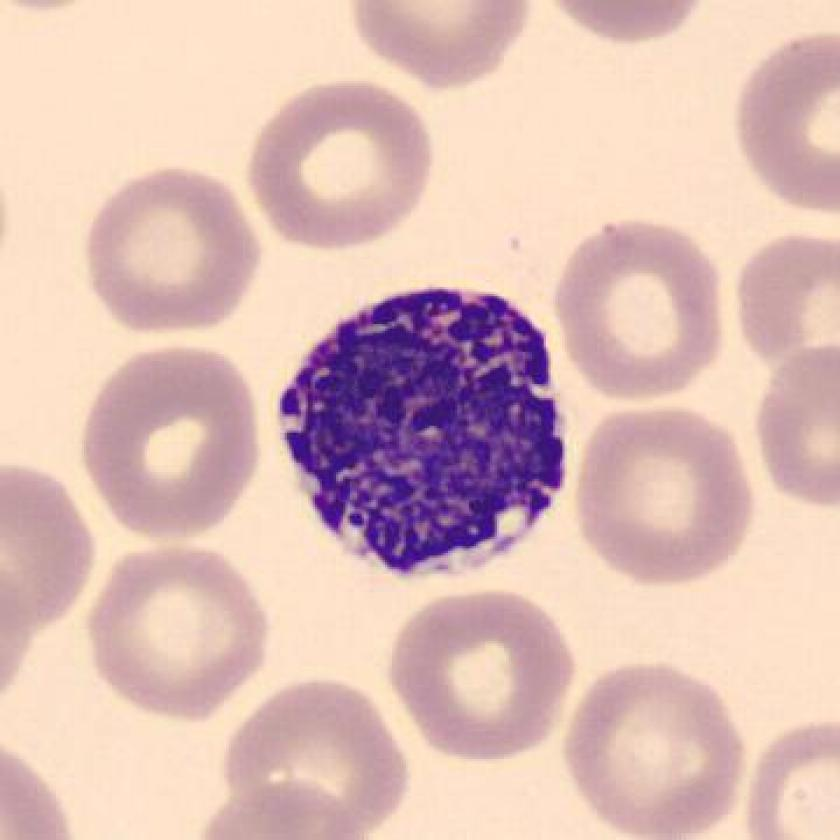basophil: (272, 279, 573, 584)
